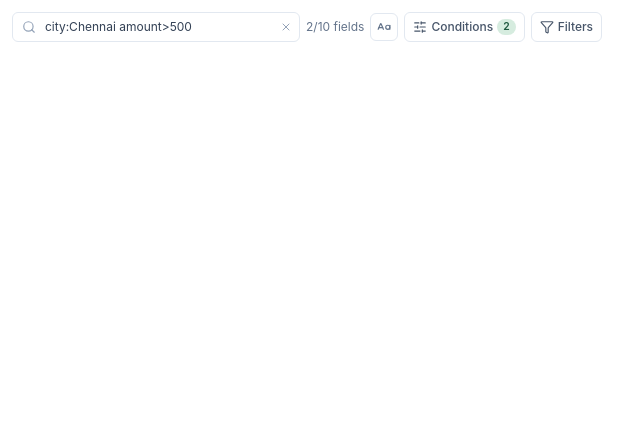
Test: SearchBar › shows a chip for each condition parsed out of the typed text
Click the button "Conditions 2": point(464, 27) [404,12,525,42]
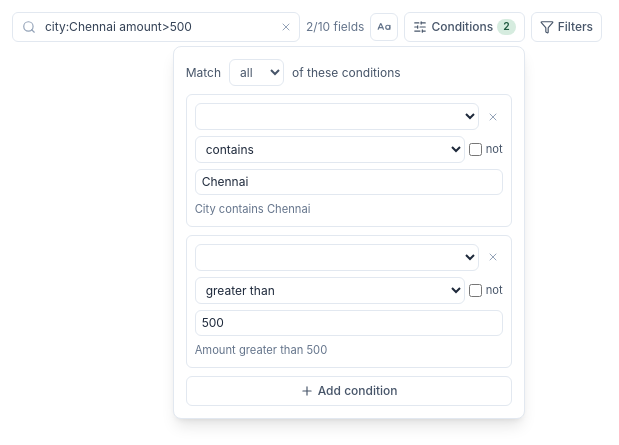
Now the number of list items is 2, box [186,94,512,227]; [186,235,512,368]
Now the text "City contains Chennai" is shown, box [195,202,310,216]
Now the text "Amount greater than 500" is shown, box [195,343,327,357]
